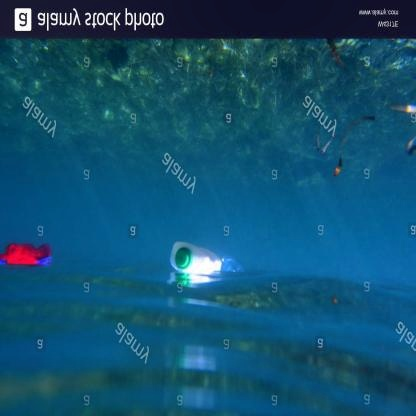pbottle: (169, 234, 228, 279)
